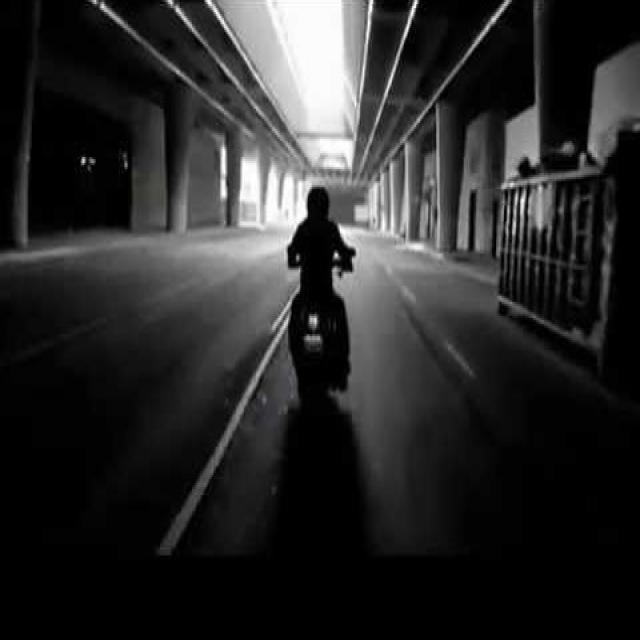Motorbike: (286, 180, 352, 399)
